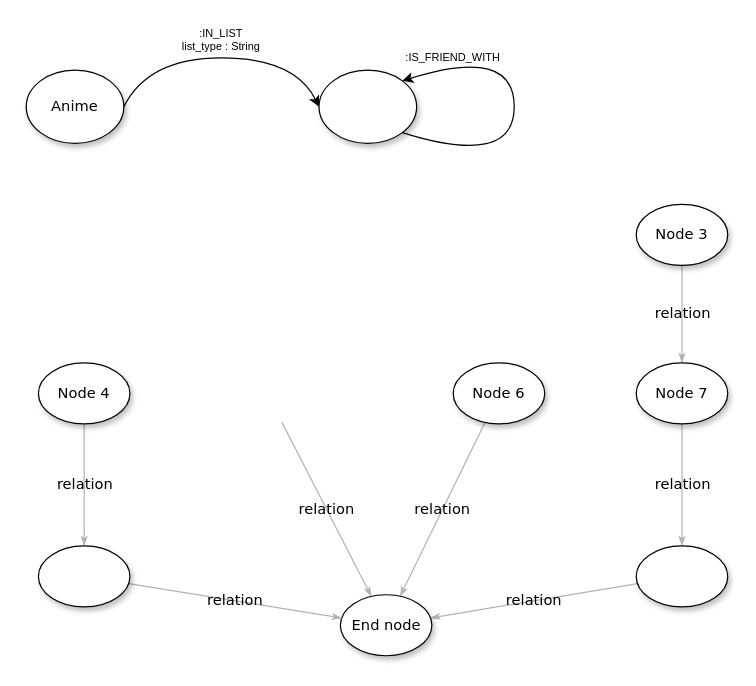
The diagram is 756 pixels wide and 686 high, and some of its shapes have lost their labels. Here are the shapes that lost their labels. From the top down, the centre of each, then its label:
At point 368,108: "Registered User".
At point 84,577: "Node 8".
At point 682,577: "Node 9".
